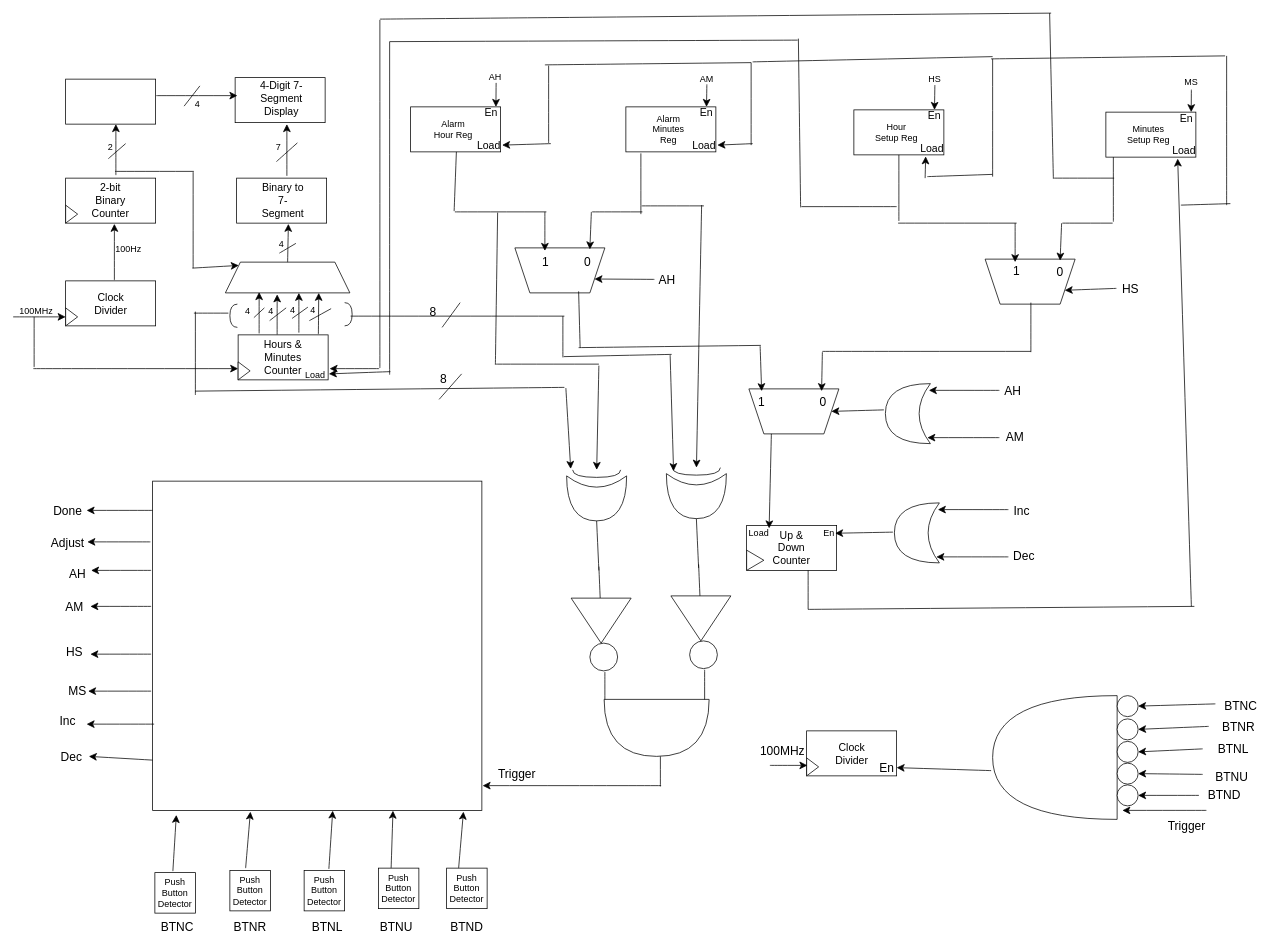
The diagram is 1277 pixels wide and 951 high, and some of its shapes have lost their labels. Each missing label, with the centre of its shape:
"2*4 Binary Decoder" belongs at (x=110, y=101).
"4*1 MUX" belongs at (x=287, y=277).
"Control Unit" belongs at (x=317, y=645).
